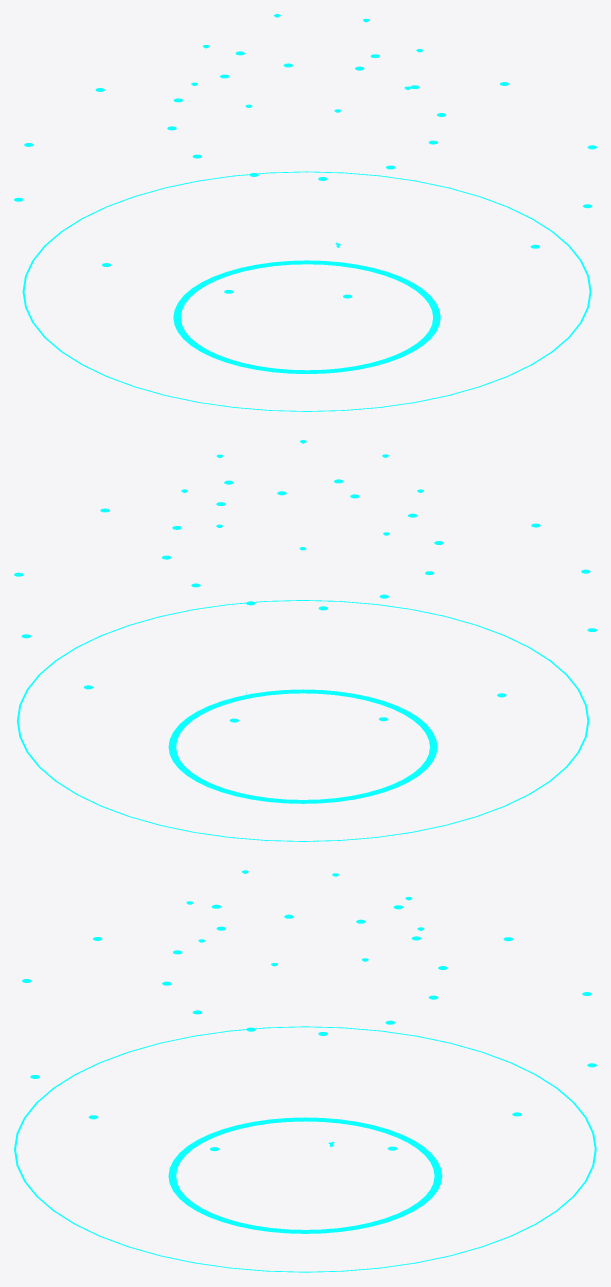
Rendered from LED_Re.fbx.
3 renders of one model, top to bottom at view 1: azimuth 30°, elevation 25°; view 2: azimuth 150°, elevation 25°; view 3: azimuth 270°, elevation 25°, orthographic. The views are drawn at different scales.
Visible parts, largest first — view 1: Light_1_S; view 2: Light_1_S; view 3: Light_1_S.
Boxes of the visible parts, left/top/right/bottom form: Light_1_S: left=14, top=14, right=596, bottom=411; Light_1_S: left=14, top=440, right=596, bottom=841; Light_1_S: left=14, top=870, right=596, bottom=1272.
Size of the model in its own units: 999 by 491 by 996.
